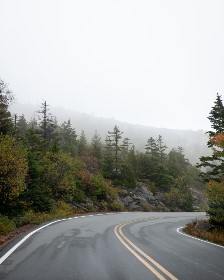rightTrun: (67, 198, 188, 280)
